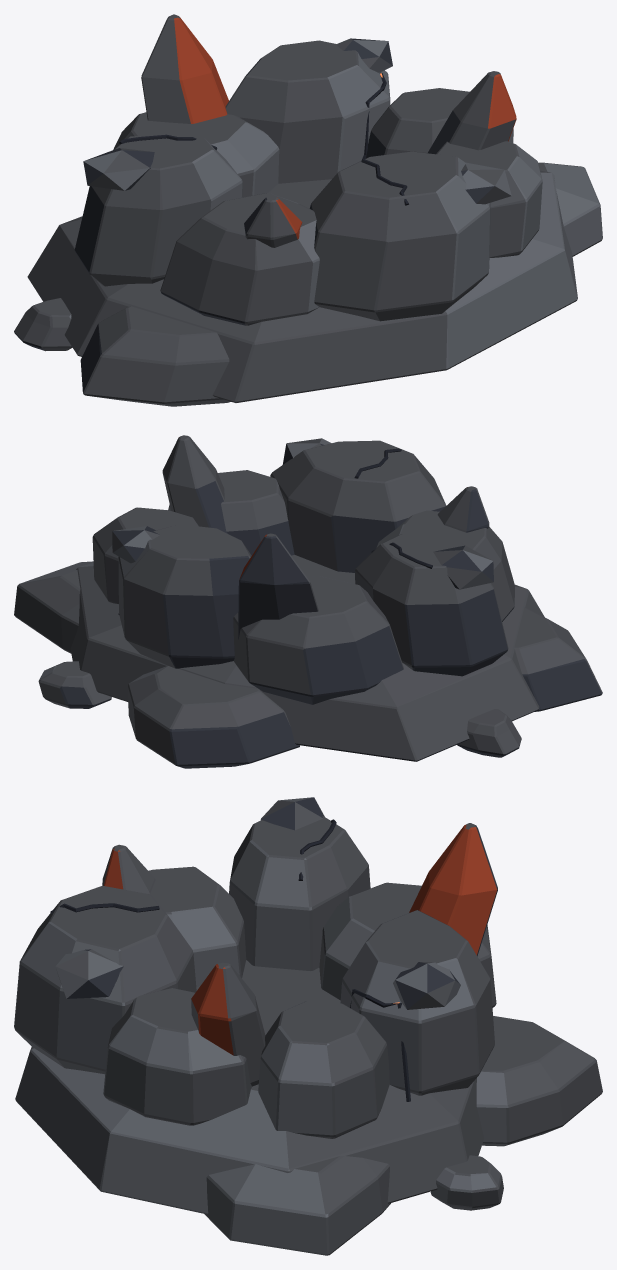
File: BH_ORE_O18_Escoria_Demoniaca_V02.glb
3 views of the same model, one above another, from view 1: azimuth 30°, elevation 25°; view 2: azimuth 150°, elevation 25°; view 3: azimuth 270°, elevation 25° (orthographic). The views are drawn at different scales.
Visible parts, largest first — view 1: Bedrock | primary.003, O18 | fractured stone 6.003, O18 | fractured stone 2.003, O18 | fractured stone 4.003, O18 | fractured stone 5.003, Bedrock | shoulder 1.003, O18 | shard 3.003, O18 | fractured stone 7.003, O18 | fractured stone 3.003, O18 | fractured stone 1.003, O18 | shard 2.003, Bedrock | shoulder 2.003 (+5 smaller); view 2: Bedrock | primary.003, O18 | fractured stone 2.003, O18 | fractured stone 6.003, O18 | fractured stone 3.003, O18 | fractured stone 4.003, Bedrock | shoulder 3.003, Bedrock | shoulder 1.003, O18 | shard 3.003, O18 | fractured stone 7.003, Bedrock | shoulder 2.003, O18 | shard 2.003, O18 | fractured stone 5.003 (+7 smaller); view 3: Bedrock | primary.003, O18 | fractured stone 6.003, O18 | fractured stone 2.003, O18 | fractured stone 4.003, O18 | fractured stone 1.003, O18 | fractured stone 7.003, Bedrock | shoulder 2.003, Bedrock | shoulder 3.003, O18 | fractured stone 5.003, O18 | shard 3.003, O18 | fractured stone 3.003, O18 | shard 2.003 (+5 smaller).
Part boxes in pixels (x1=…): Bedrock | primary.003: x1=27, y1=170, x2=577, y2=402; O18 | fractured stone 6.003: x1=309, y1=151, x2=490, y2=321; O18 | fractured stone 2.003: x1=225, y1=40, x2=390, y2=183; O18 | fractured stone 4.003: x1=74, y1=134, x2=242, y2=286; O18 | fractured stone 5.003: x1=160, y1=193, x2=319, y2=325; Bedrock | shoulder 1.003: x1=80, y1=306, x2=230, y2=406; O18 | shard 3.003: x1=141, y1=14, x2=228, y2=123; O18 | fractured stone 7.003: x1=436, y1=141, x2=542, y2=257; O18 | fractured stone 3.003: x1=113, y1=112, x2=279, y2=197; O18 | fractured stone 1.003: x1=366, y1=88, x2=513, y2=158; O18 | shard 2.003: x1=427, y1=71, x2=516, y2=154; Bedrock | shoulder 2.003: x1=538, y1=162, x2=602, y2=256; Bedrock | primary.003: x1=70, y1=555, x2=544, y2=761; O18 | fractured stone 2.003: x1=118, y1=524, x2=251, y2=668; O18 | fractured stone 6.003: x1=270, y1=440, x2=446, y2=572; O18 | fractured stone 3.003: x1=233, y1=576, x2=403, y2=704; O18 | fractured stone 4.003: x1=355, y1=534, x2=508, y2=676; Bedrock | shoulder 3.003: x1=127, y1=666, x2=299, y2=768; Bedrock | shoulder 1.003: x1=514, y1=607, x2=602, y2=711; O18 | shard 3.003: x1=238, y1=533, x2=318, y2=639; O18 | fractured stone 7.003: x1=168, y1=470, x2=294, y2=555; Bedrock | shoulder 2.003: x1=14, y1=561, x2=93, y2=653; O18 | shard 2.003: x1=162, y1=435, x2=227, y2=533; O18 | fractured stone 5.003: x1=376, y1=510, x2=514, y2=621; Bedrock | primary.003: x1=15, y1=960, x2=484, y2=1214; O18 | fractured stone 6.003: x1=14, y1=886, x2=196, y2=1074; O18 | fractured stone 2.003: x1=340, y1=910, x2=494, y2=1095; O18 | fractured stone 4.003: x1=229, y1=816, x2=370, y2=970; O18 | fractured stone 1.003: x1=258, y1=1001, x2=389, y2=1138; O18 | fractured stone 7.003: x1=103, y1=988, x2=251, y2=1125; Bedrock | shoulder 2.003: x1=204, y1=1156, x2=390, y2=1255; Bedrock | shoulder 3.003: x1=476, y1=1016, x2=602, y2=1146; O18 | fractured stone 5.003: x1=148, y1=866, x2=246, y2=986; O18 | shard 3.003: x1=409, y1=823, x2=497, y2=956; O18 | fractured stone 3.003: x1=319, y1=882, x2=496, y2=1007; O18 | shard 2.003: x1=191, y1=962, x2=265, y2=1086.
Size of the model in its own units: 3.21 by 1.28 by 2.58.
